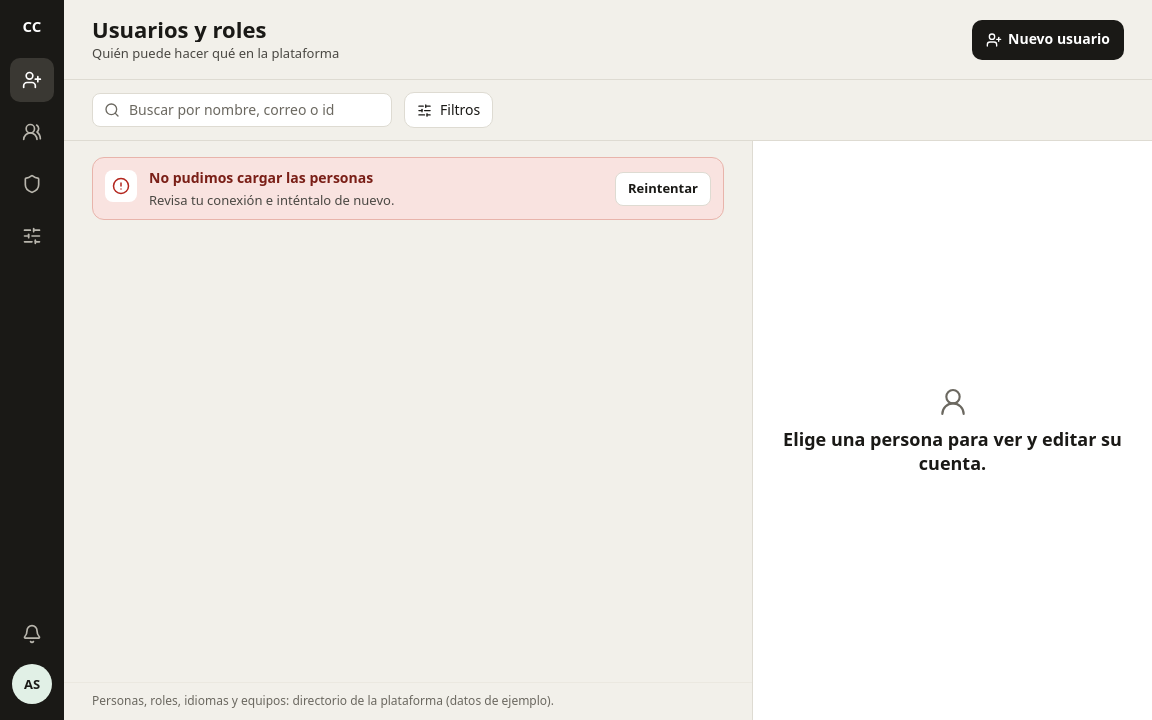
Test case: users and roles screen ("Usuarios y roles") › shows an error with a retry
Expected: the text "No pudimos cargar las personas" is shown, x1=149 y1=168 x2=373 y2=187
Click the button "Reintentar" at (663, 189), box x1=615 y1=172 x2=711 y2=206
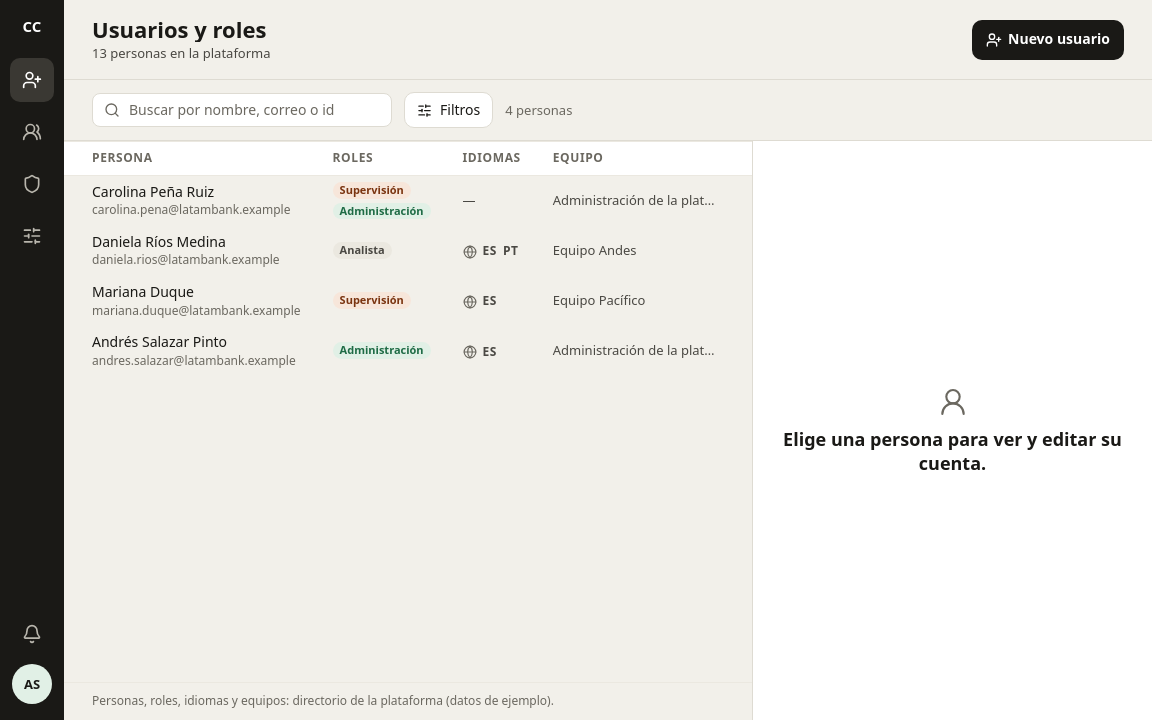
Result: the table named "Personas" is shown at x1=64 y1=141 x2=752 y2=376
